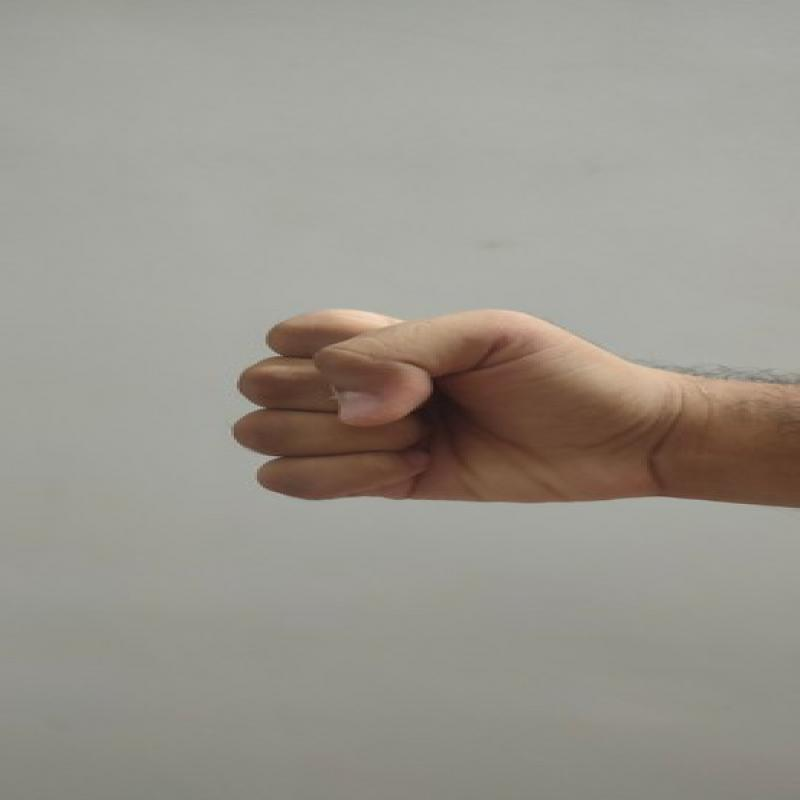Mushti: (218, 288, 678, 513)
